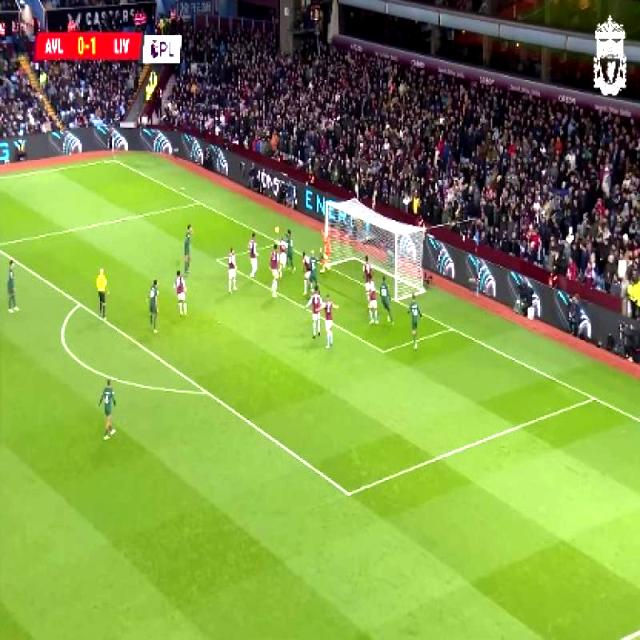bigarea_bottom_inner: (336, 476, 361, 510)
bigarea_bottom_outter: (584, 386, 602, 408)
bigarea_top_outter: (192, 194, 208, 211)
bottom_arc_area_intersection: (195, 376, 215, 406)
corner: (105, 151, 122, 166)
smallarea_bottom_inner: (372, 335, 392, 365)
smallarea_bottom_outter: (442, 316, 460, 338)
smallarea_top_inner: (210, 248, 224, 269)
smallarea_top_outter: (270, 232, 285, 250)
top_arc_area_intersection: (69, 290, 89, 316)
